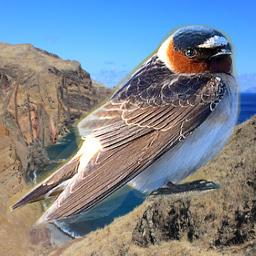Swallow: (7, 24, 241, 232)
